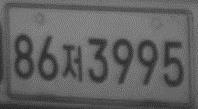3: (87, 37, 109, 82)
5: (161, 40, 185, 88)
6: (37, 35, 58, 82)
8: (12, 33, 34, 79)
9: (137, 38, 159, 87), (112, 37, 134, 85)
저: (60, 42, 84, 83)
